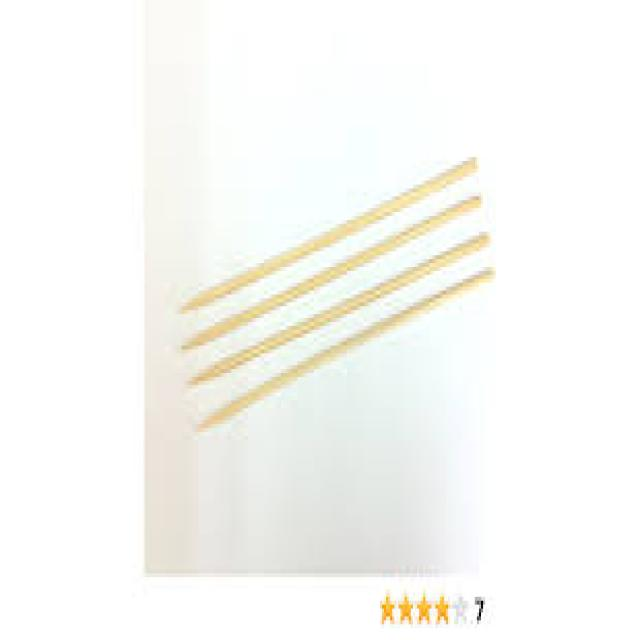stick: (193, 265, 494, 439), (187, 228, 490, 395), (179, 191, 481, 357), (178, 153, 478, 320)
